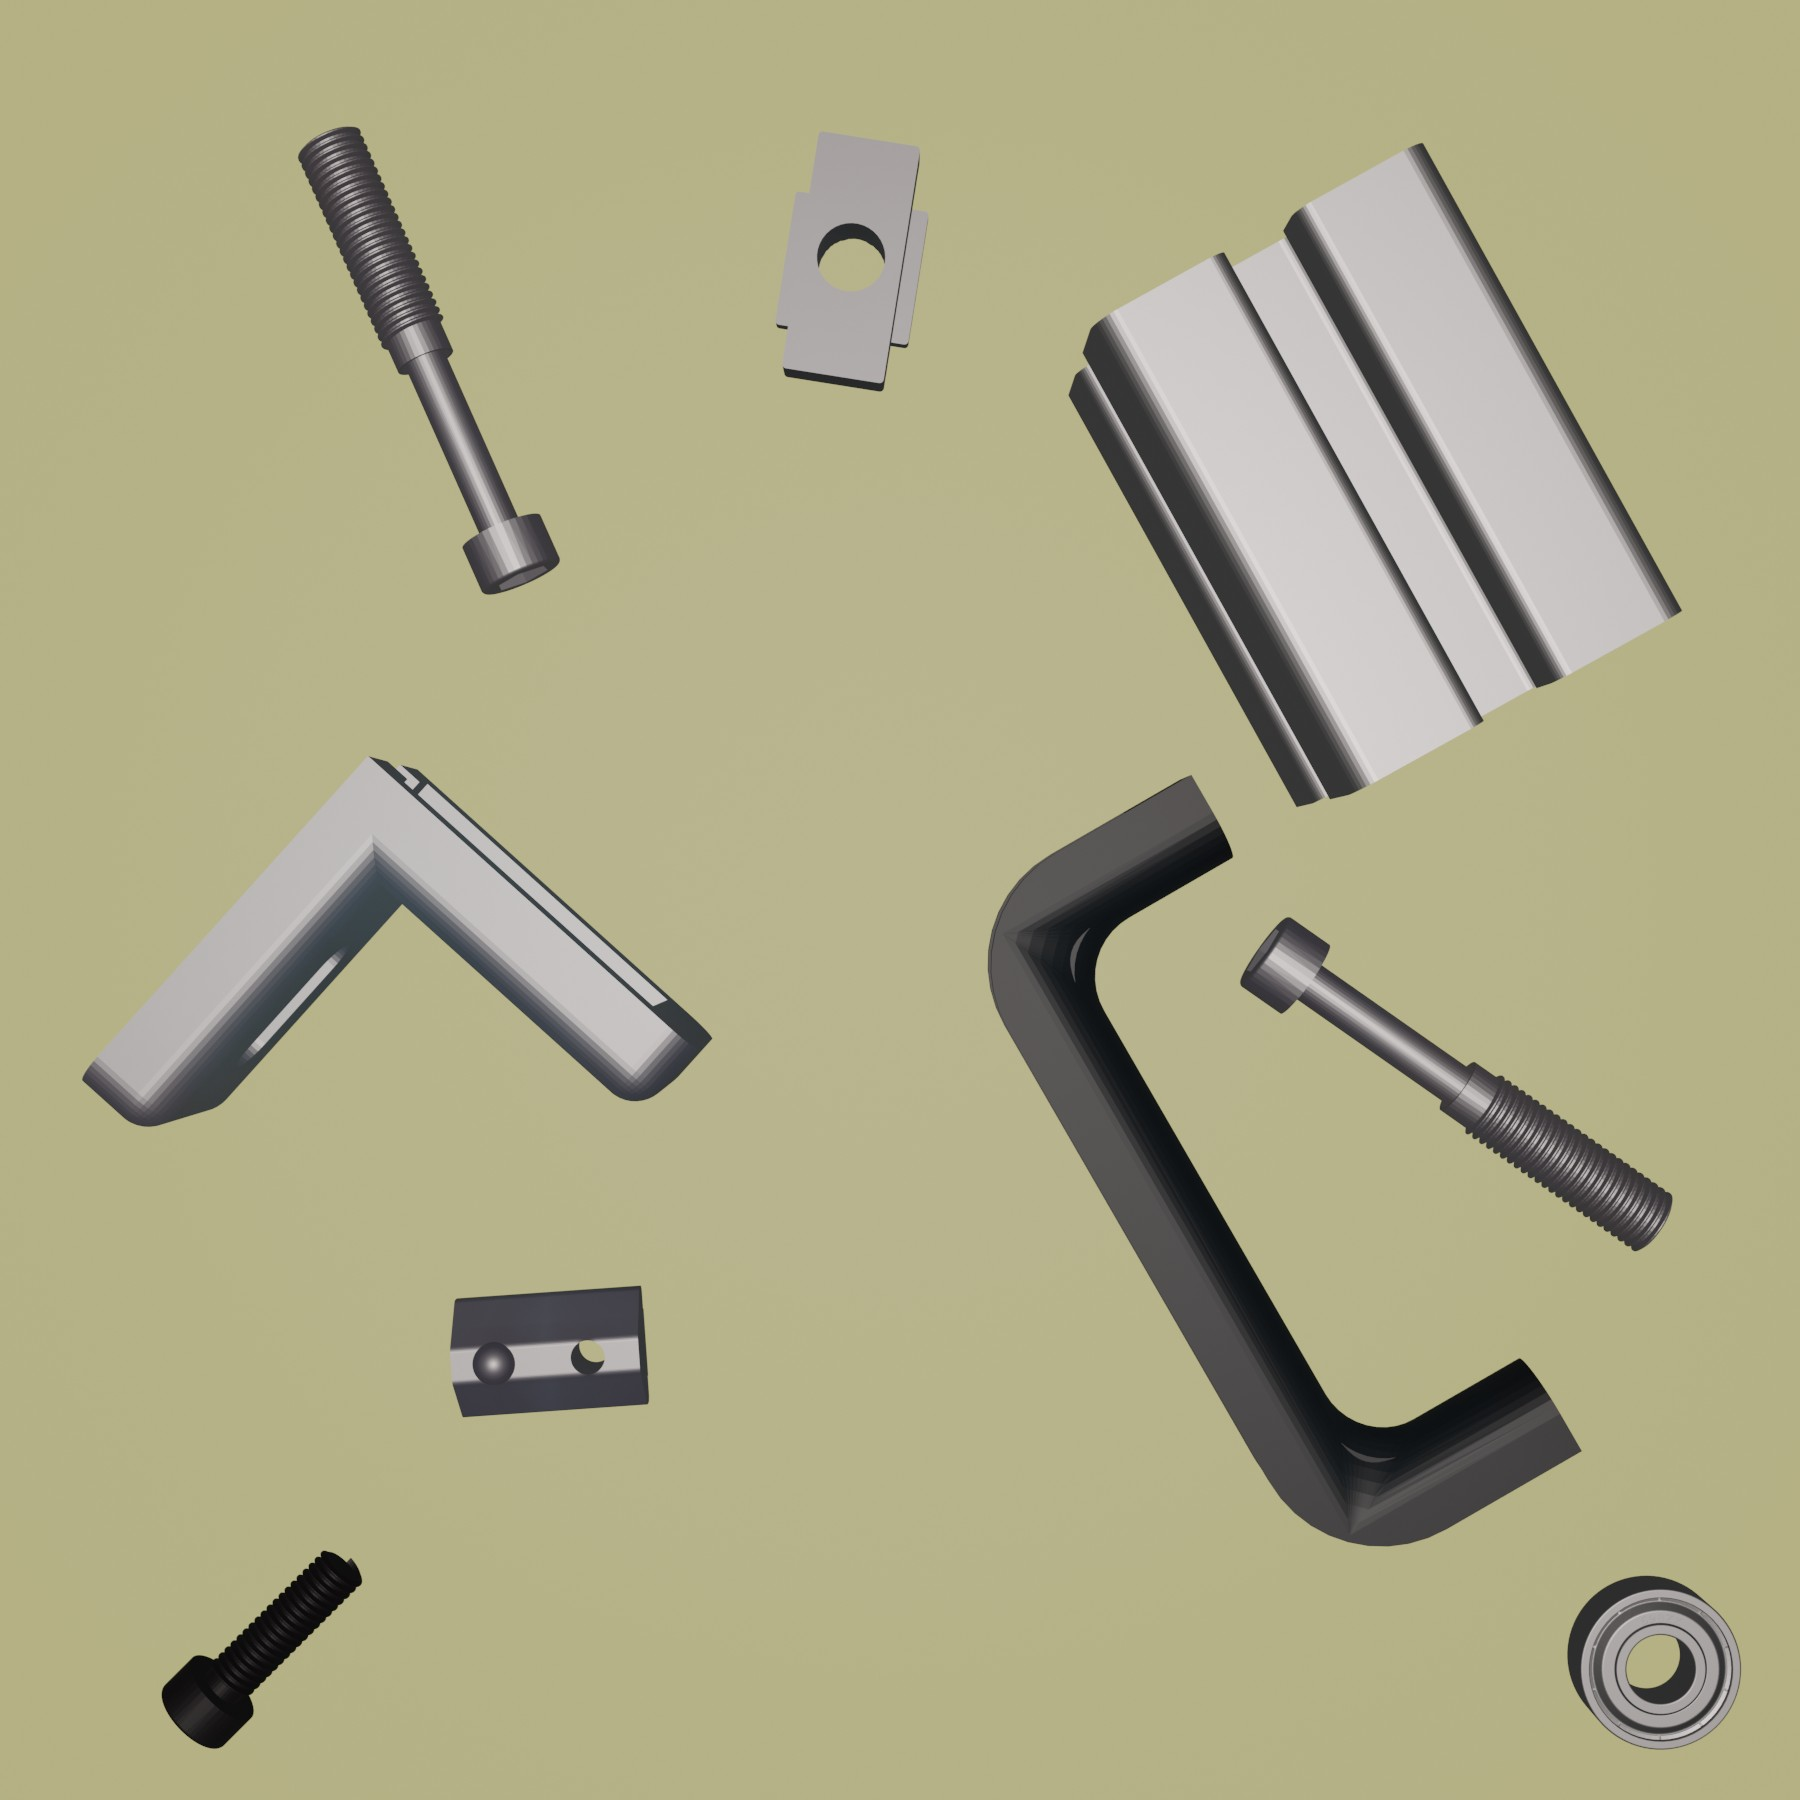Aluminium Extension: (1065, 138, 1686, 811)
Ball Bearing: (1568, 1573, 1744, 1752)
Multiwinkel: (79, 753, 712, 1127)
Pull Handle: (986, 773, 1582, 1549)
Shoulder Socket Head Cap Screw: (1235, 912, 1675, 1253), (297, 124, 562, 597)
Socket Head Cap Screw: (162, 1546, 364, 1751)
T Nut Square: (773, 125, 933, 396)
T Spring Nut: (447, 1281, 654, 1423)
